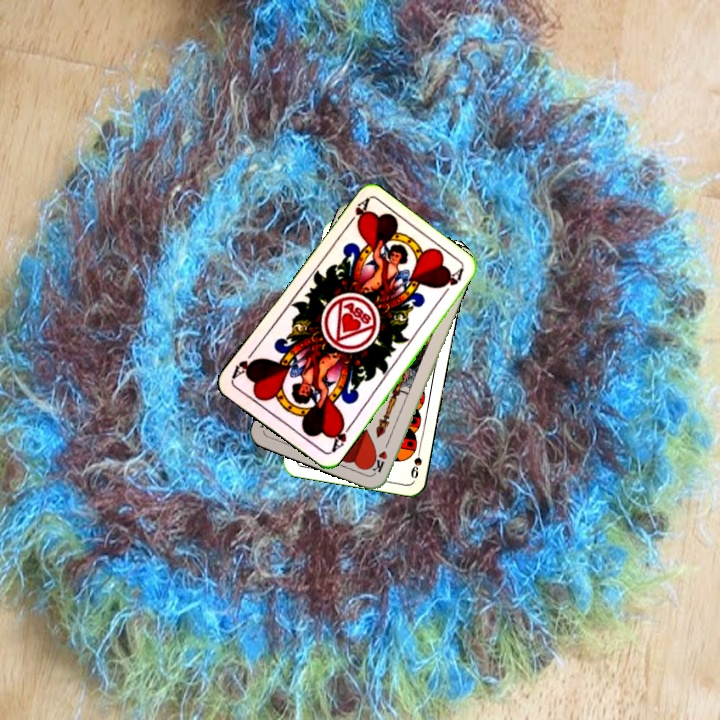HA: (326, 416, 354, 455), (341, 195, 371, 231)
HK: (368, 436, 392, 475)
S9: (407, 441, 425, 481)
